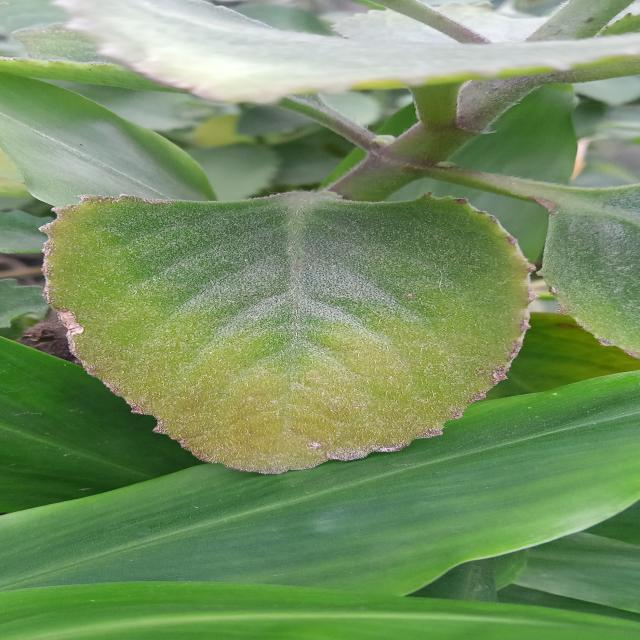Oregano: (32, 188, 571, 484)
